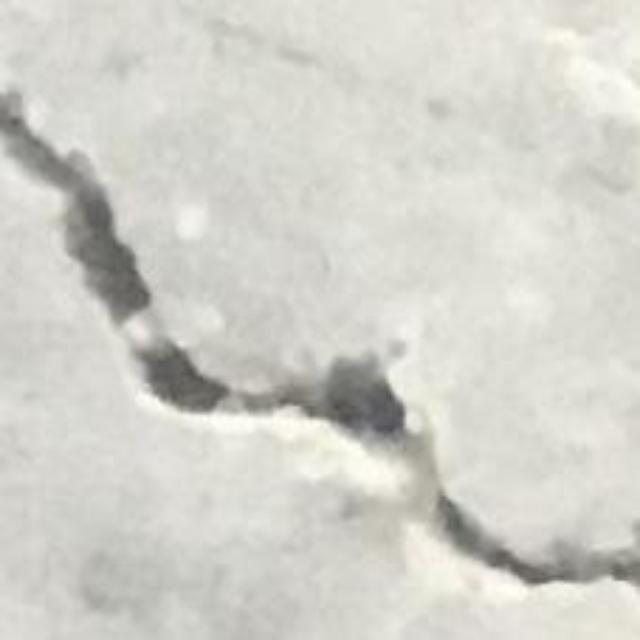crack: (0, 94, 639, 589)
